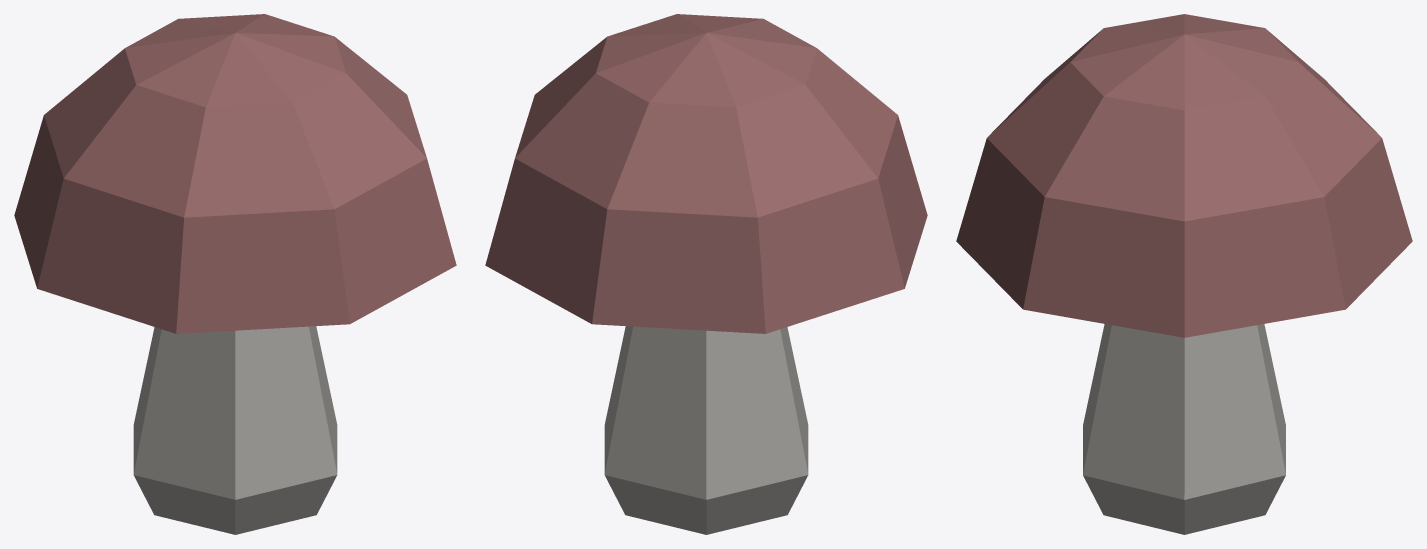
The model's file is RoundMush1.fbx.
3 views of the same model, side by side, from view 1: azimuth 30°, elevation 25°; view 2: azimuth 150°, elevation 25°; view 3: azimuth 270°, elevation 25° (orthographic).
Parts seen in each view (by area): view 1: Roundmush1; view 2: Roundmush1; view 3: Roundmush1.
Part boxes in pixels (x1,y1,x2,y2): Roundmush1: (14, 14, 456, 534); Roundmush1: (485, 14, 927, 534); Roundmush1: (956, 14, 1412, 534).
Bounding box in the file's own units: 2 × 2.23 × 2.
